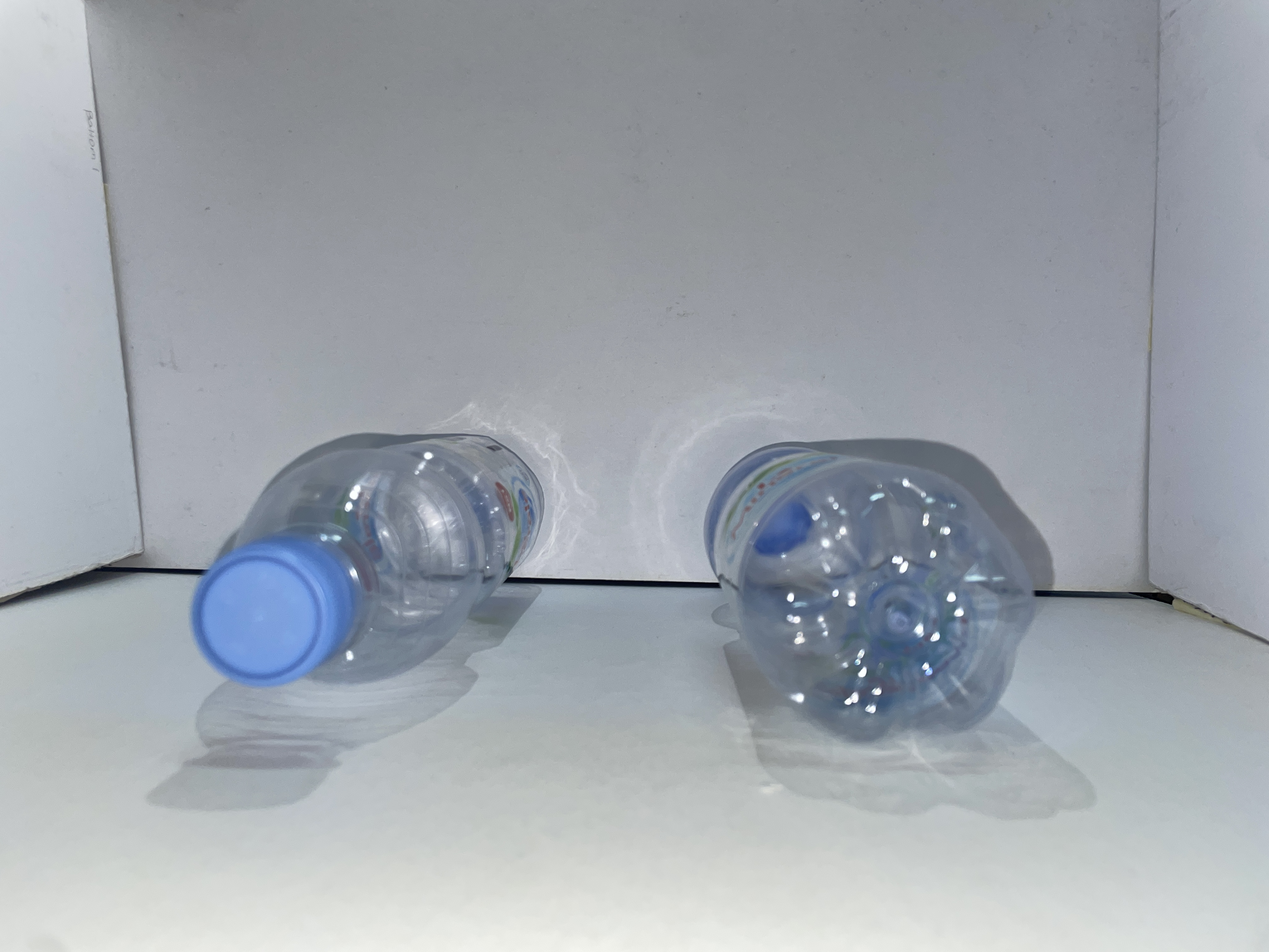Le Minerale 600ml: (705, 444, 1034, 740), (191, 434, 544, 685)
